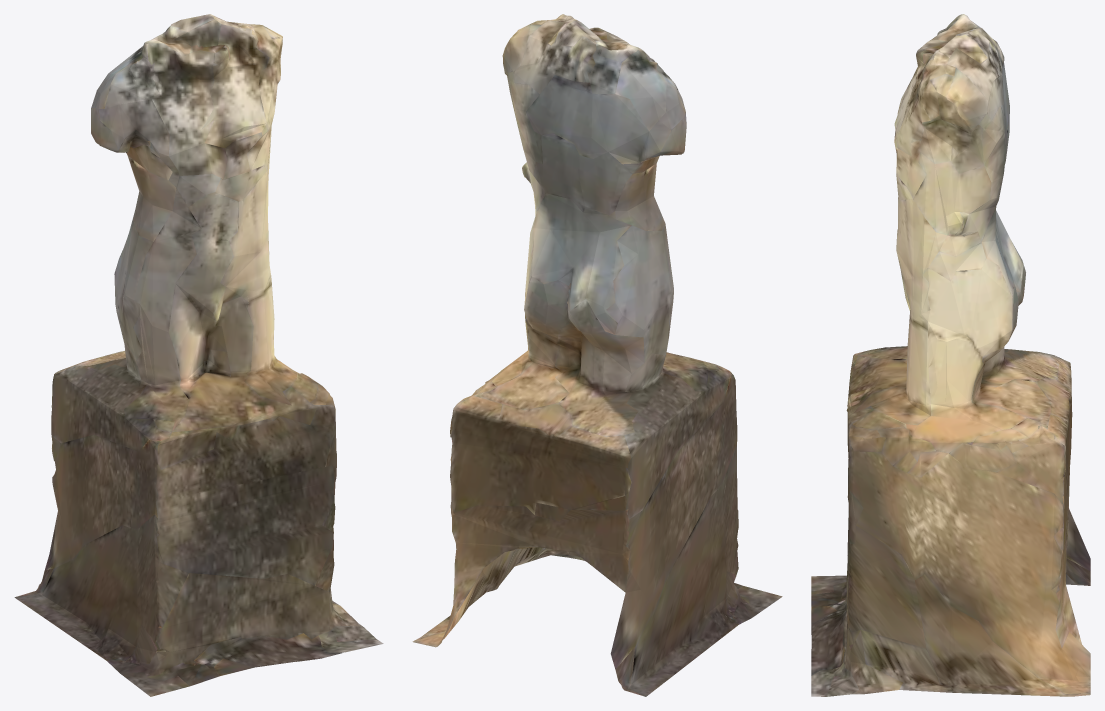
The model's file is male-torso-statue.glb.
3 renders of one model, left to right at view 1: azimuth 30°, elevation 25°; view 2: azimuth 150°, elevation 25°; view 3: azimuth 270°, elevation 25°, orthographic. The views are drawn at different scales.
Visible parts, largest first — view 1: Object_3; view 2: Object_3; view 3: Object_3.
Part boxes in pixels (x1,y1,x2,y2): Object_3: (14, 14, 383, 696); Object_3: (412, 14, 782, 696); Object_3: (811, 14, 1090, 696).
Size of the model in its own units: 0.6202 by 1.52 by 0.6288.
1 material, 1 textured.
